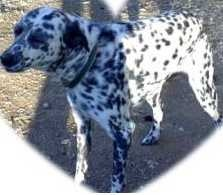dog: (0, 0, 210, 160)
